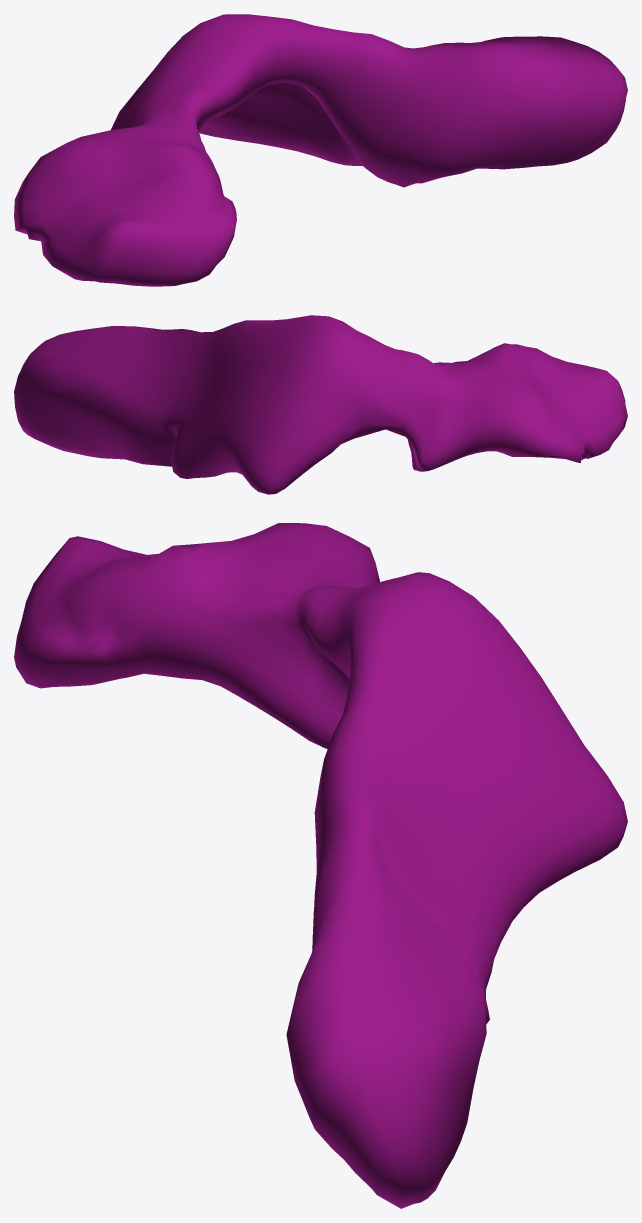
Rendered from Pancreas.FBX.
The picture shows the model from 3 angles, top to bottom: view 1: azimuth 30°, elevation 25°; view 2: azimuth 150°, elevation 25°; view 3: azimuth 270°, elevation 25°; orthographic projection. The views are drawn at different scales.
Visible parts, largest first — view 1: Pancreas-Snapshot; view 2: Pancreas-Snapshot; view 3: Pancreas-Snapshot.
Part boxes in pixels (left/top/right/bottom): Pancreas-Snapshot: left=14, top=14, right=627, bottom=286; Pancreas-Snapshot: left=14, top=315, right=627, bottom=494; Pancreas-Snapshot: left=14, top=523, right=627, bottom=1208.
Bounding box in the file's own units: 113 × 37.72 × 58.98.
